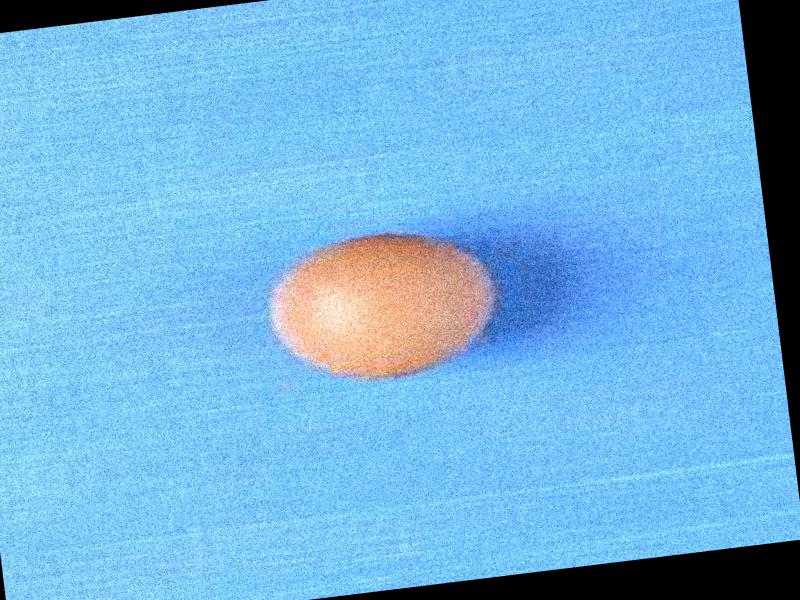Eggs: (258, 222, 510, 390)
